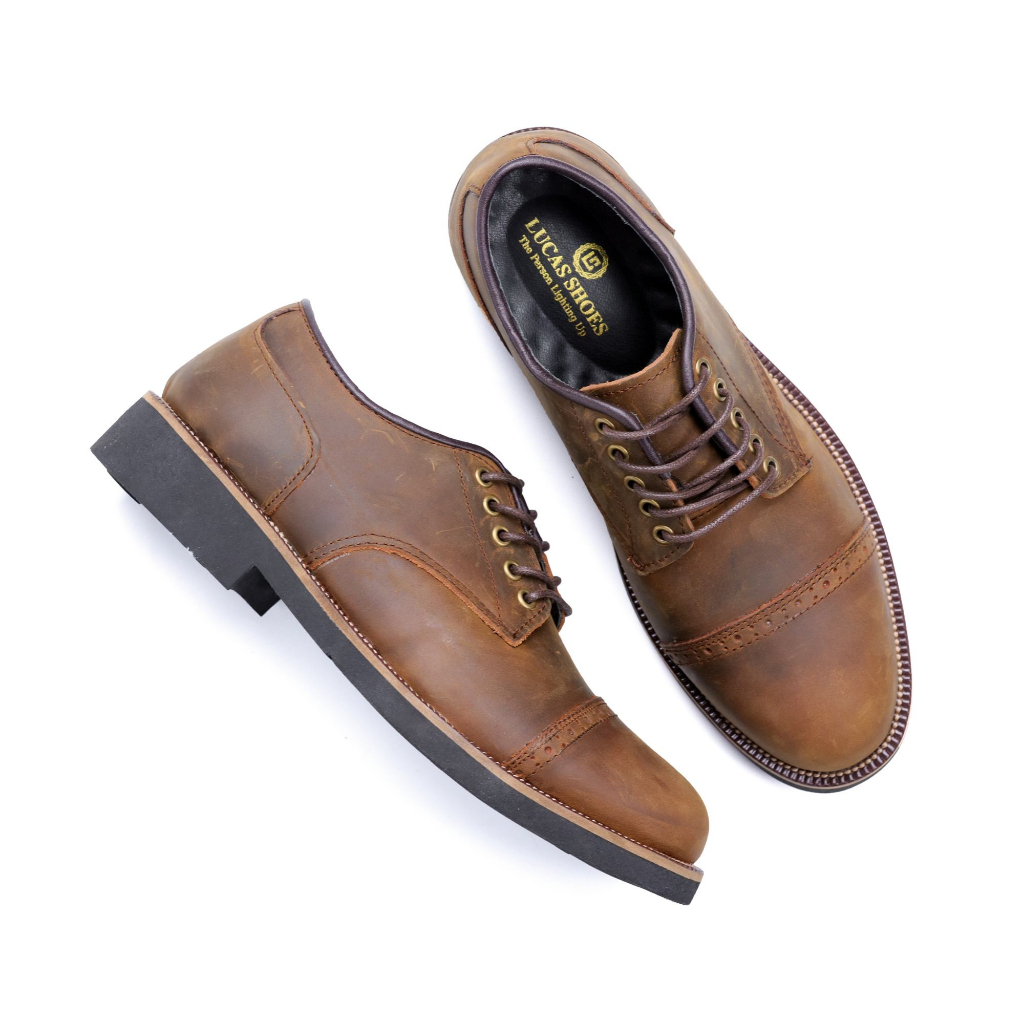derby: (86, 295, 710, 909), (444, 125, 915, 795)
